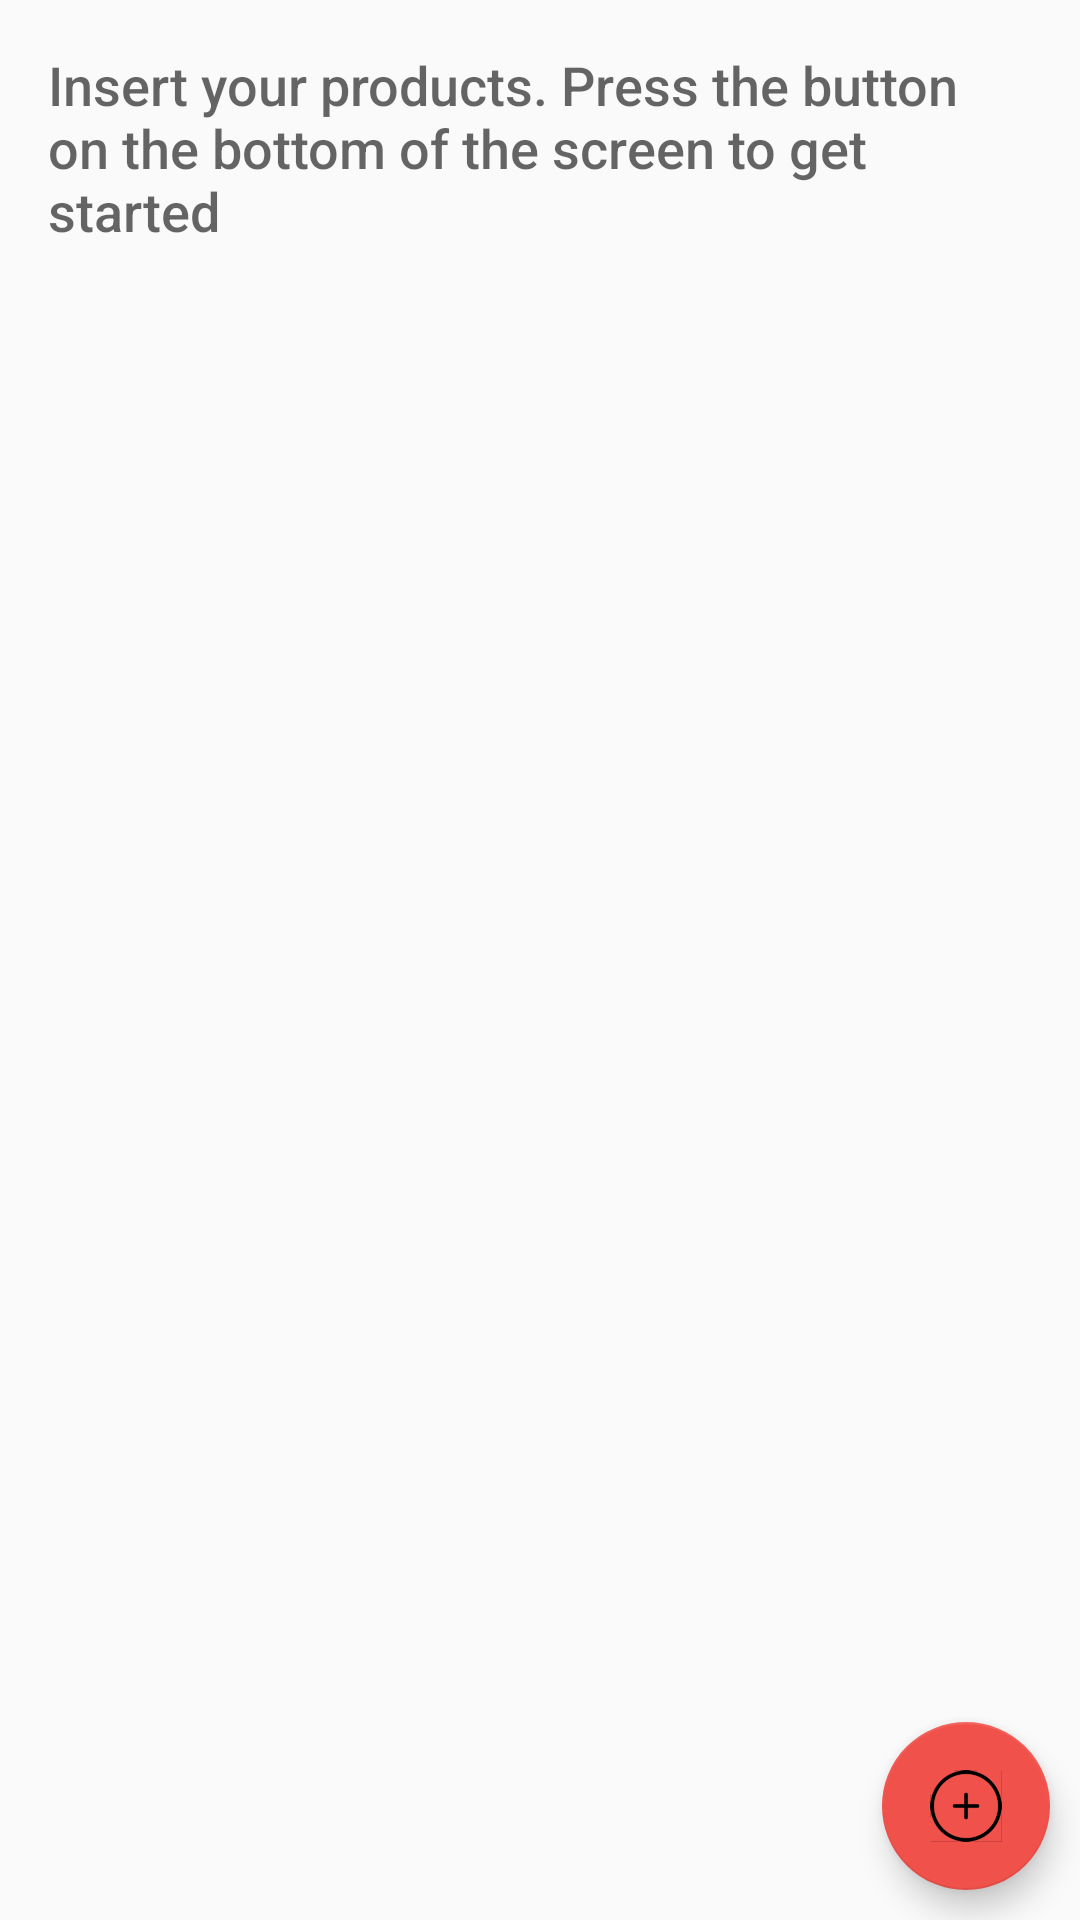

Where to tap for icons on this 1080 × 1920 app screen, as point (x, y):
add product: point (966, 1806)
